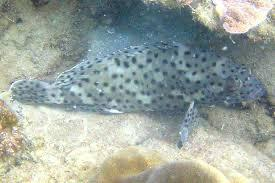Serranidae -Groupers-: (6, 33, 267, 151)
